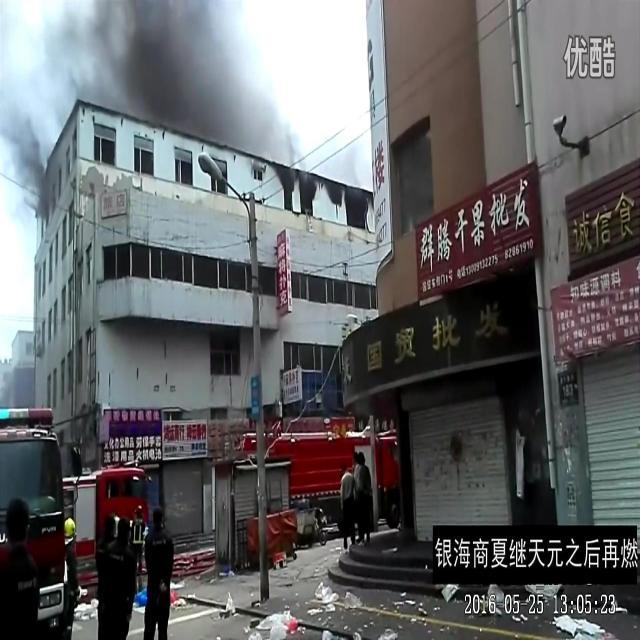Smoke: (44, 0, 308, 180), (0, 69, 50, 219)
